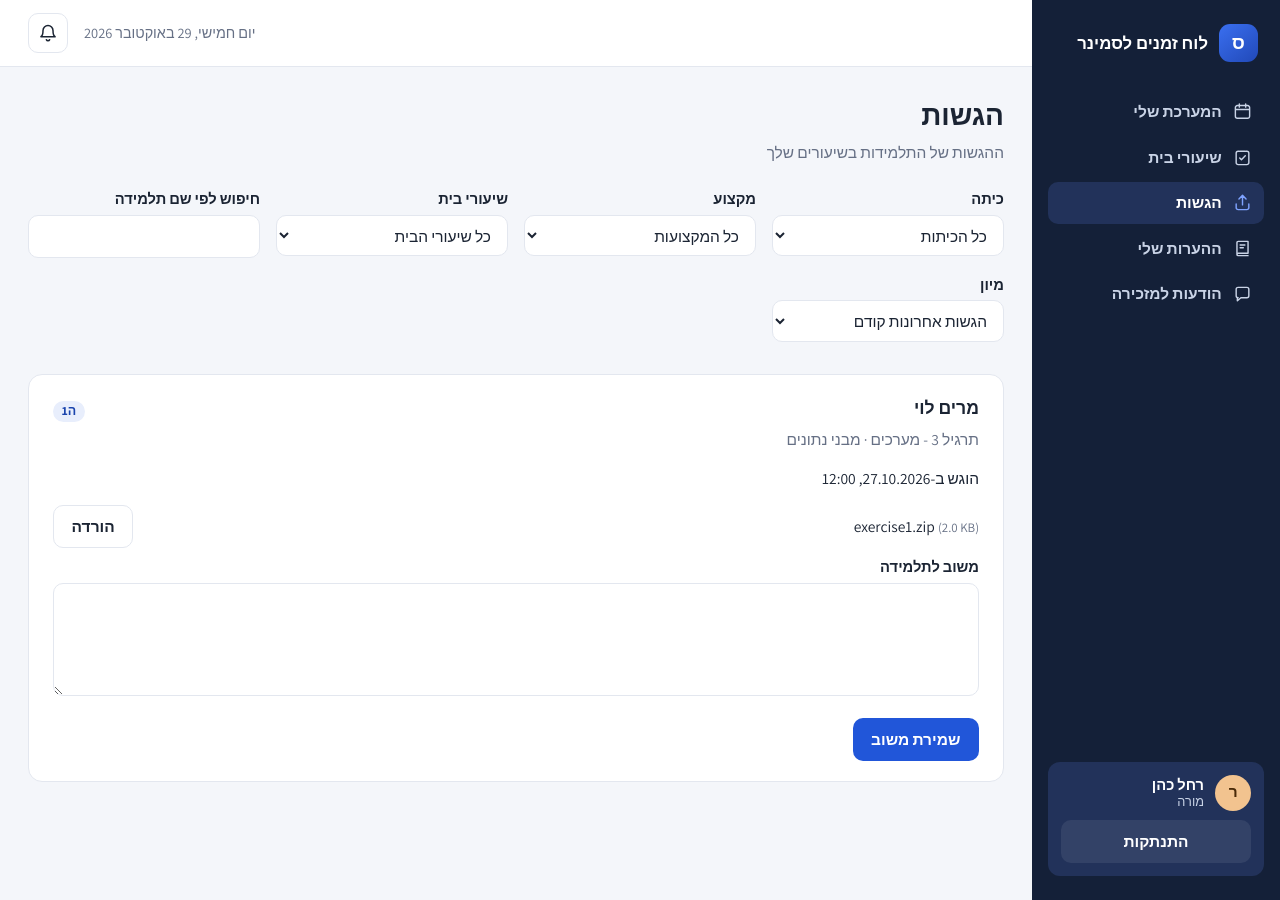
Test: הגשות (מורה) › משוב › משוב ריק נדחה בצד הלקוח
This screenshot has width=1280, height=900.
Click the button "שמירת משוב".
click(916, 739)  # box x1=852 y1=718 x2=979 y2=761
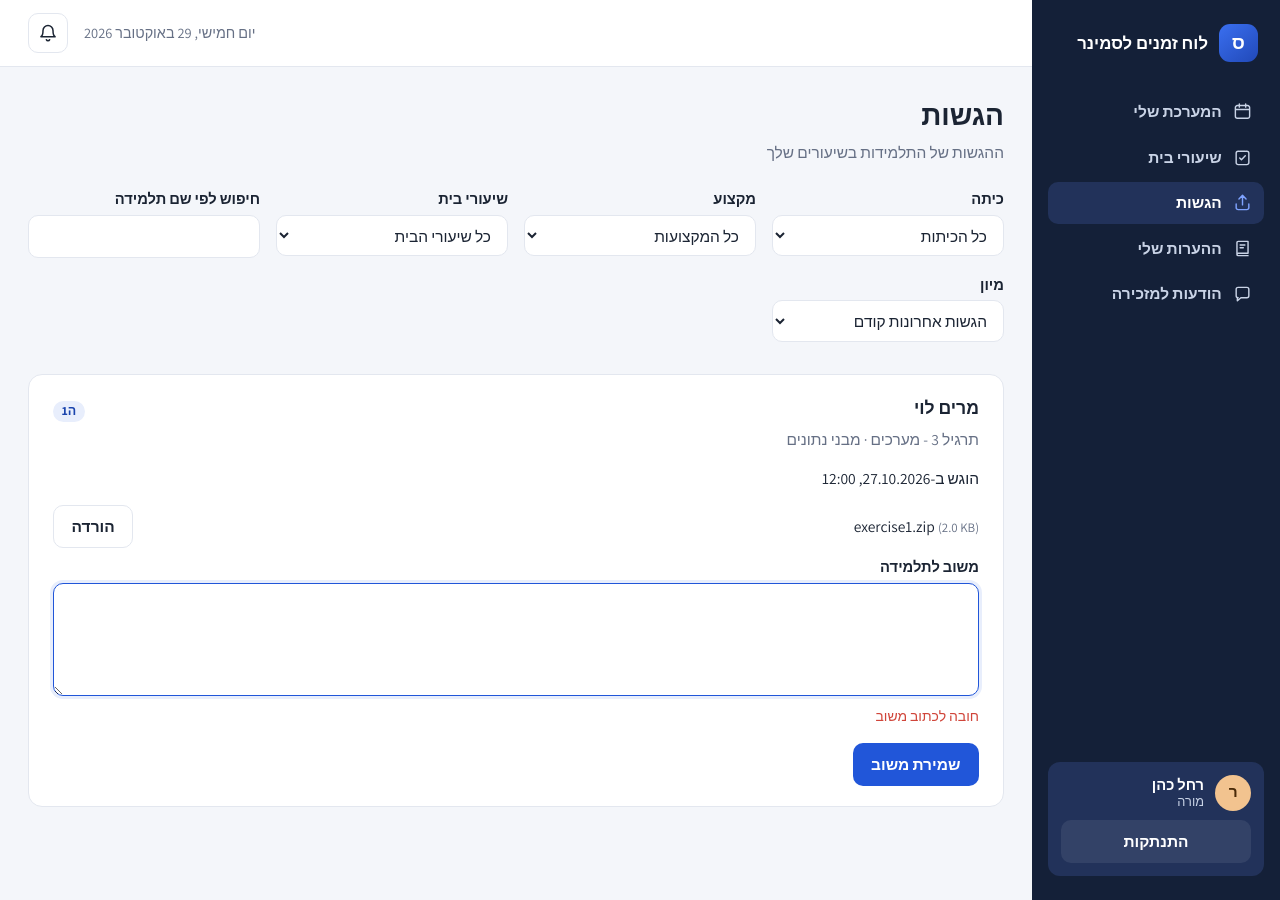
Result: the text "חובה לכתוב משוב" is shown at x1=875 y1=707 x2=979 y2=725
